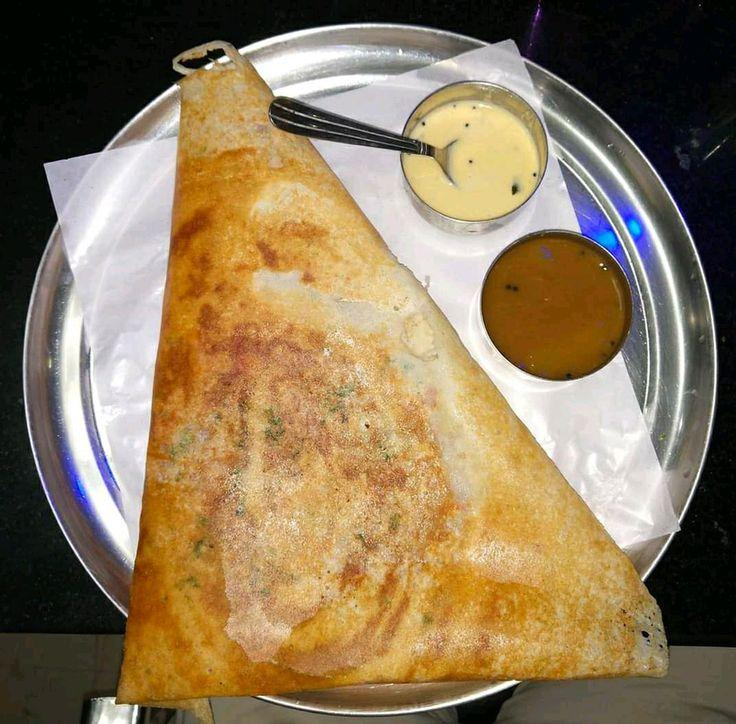dosa: (132, 45, 624, 686)
